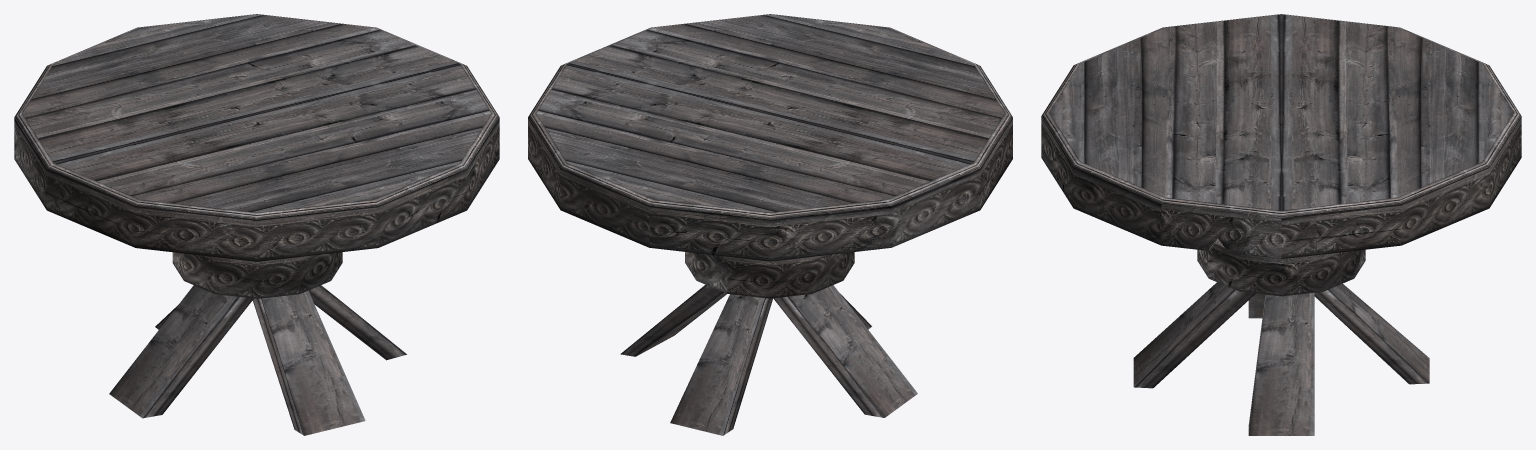
Rendered from tavern_smalltable.fbx.
The picture shows the model from 3 angles, left to right: view 1: azimuth 30°, elevation 25°; view 2: azimuth 150°, elevation 25°; view 3: azimuth 270°, elevation 25°; orthographic projection.
Parts seen in each view (by area): view 1: Default_Layer; view 2: Default_Layer; view 3: Default_Layer.
Part boxes in pixels (x1=…): Default_Layer: x1=14, y1=14, x2=499, y2=435; Default_Layer: x1=528, y1=14, x2=1012, y2=435; Default_Layer: x1=1041, y1=14, x2=1521, y2=435.
Bounding box in the file's own units: 136 × 80.81 × 136.
Materials: 1 (1 with a texture image).
